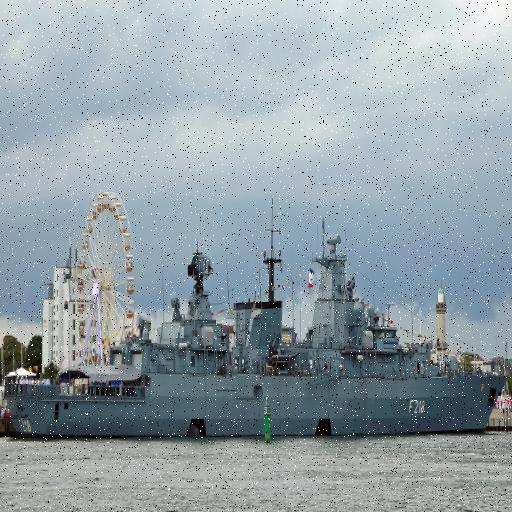Fragata: (1, 187, 512, 444)
